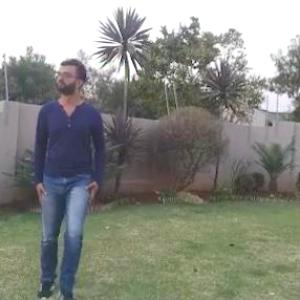follow: (25, 35, 110, 299)
